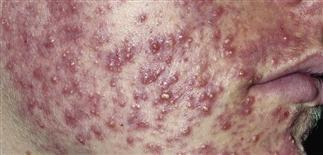Acne: (140, 66, 191, 112), (51, 52, 96, 98), (97, 41, 145, 84), (20, 19, 82, 52), (206, 35, 250, 71), (15, 71, 49, 115), (65, 99, 110, 132), (125, 108, 167, 142), (232, 91, 263, 136), (194, 79, 229, 118), (178, 0, 216, 30), (143, 32, 187, 56), (262, 28, 294, 55), (125, 6, 160, 28), (261, 103, 285, 126), (137, 142, 172, 155), (182, 139, 213, 153), (65, 133, 95, 144)
